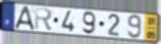2: (107, 13, 122, 38)
4: (60, 10, 76, 34)
9: (127, 14, 143, 40), (82, 11, 97, 36)
A: (14, 6, 36, 31)
R: (34, 6, 54, 33)
